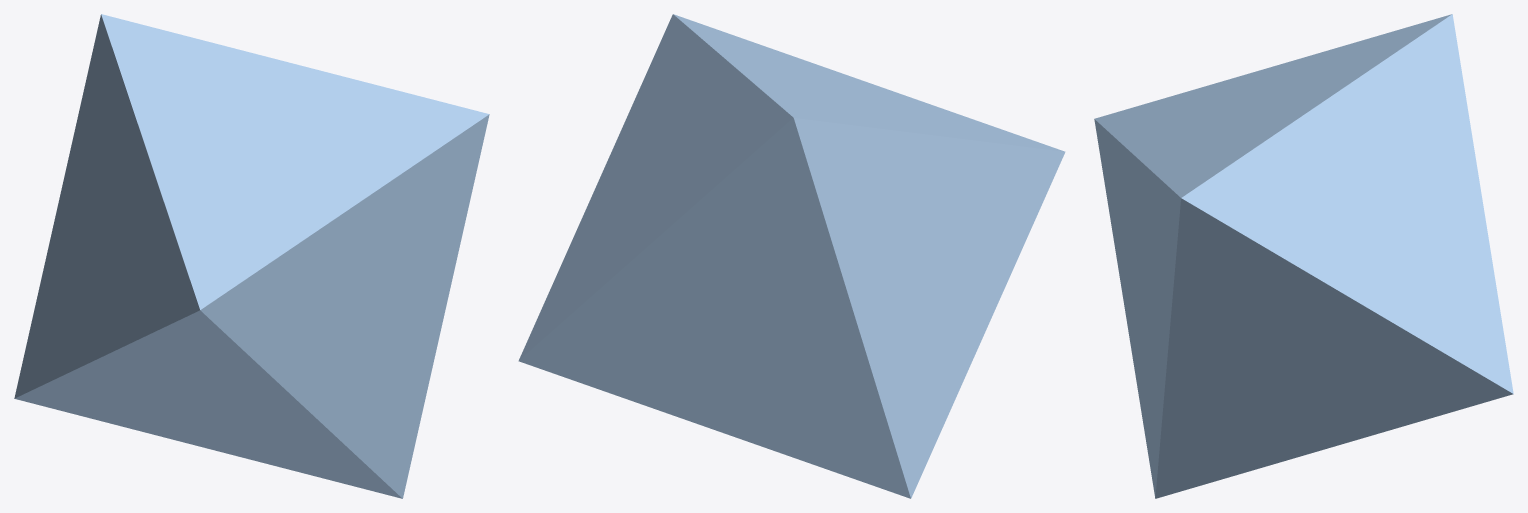
The model's file is platonic-octahedron.glb.
3 renders of one model, left to right at view 1: azimuth 30°, elevation 25°; view 2: azimuth 150°, elevation 25°; view 3: azimuth 270°, elevation 25°, orthographic. The views are drawn at different scales.
Visible parts, largest first — view 1: Octahedron; view 2: Octahedron; view 3: Octahedron.
Boxes of the visible parts, x1,y1,x2,y2 form: Octahedron: (14, 14, 489, 498); Octahedron: (518, 14, 1065, 498); Octahedron: (1094, 14, 1513, 498).
Size of the model in its own units: 1.25 by 1.4 by 1.3.
